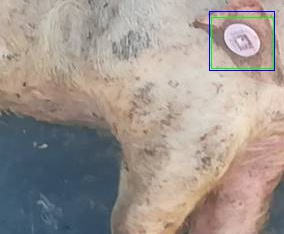text: (211, 17, 273, 68)
